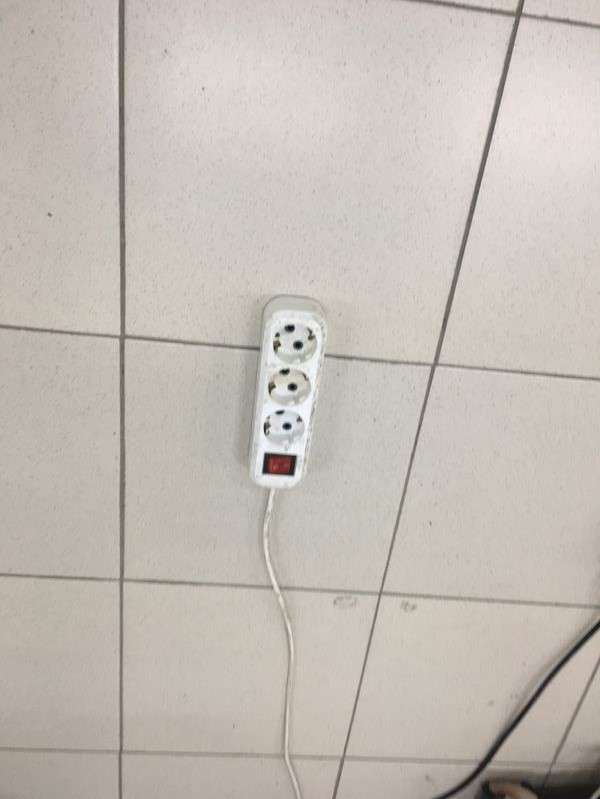socket: (235, 283, 343, 494)
